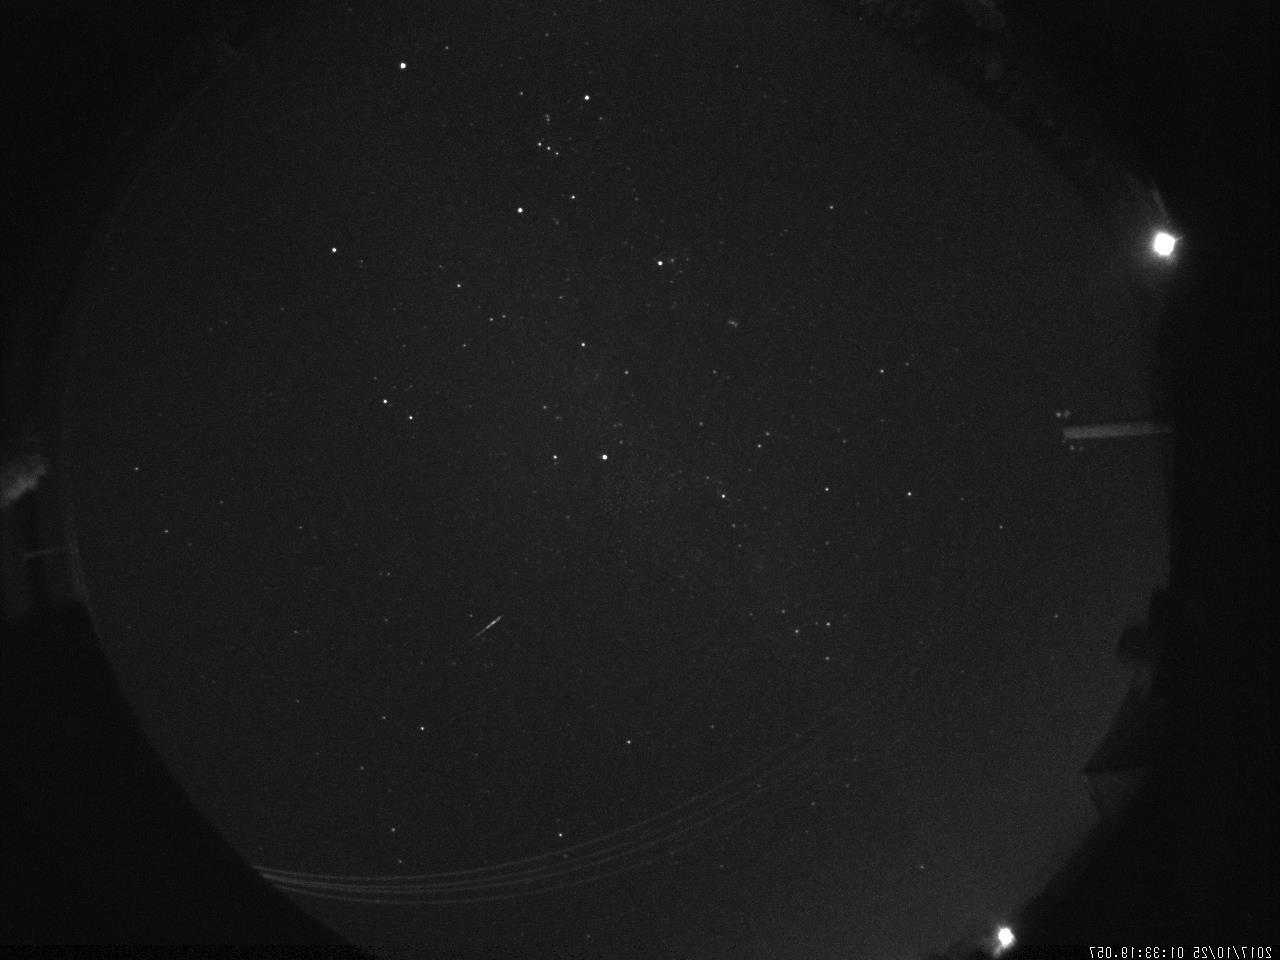meteor: (463, 603, 514, 648)
